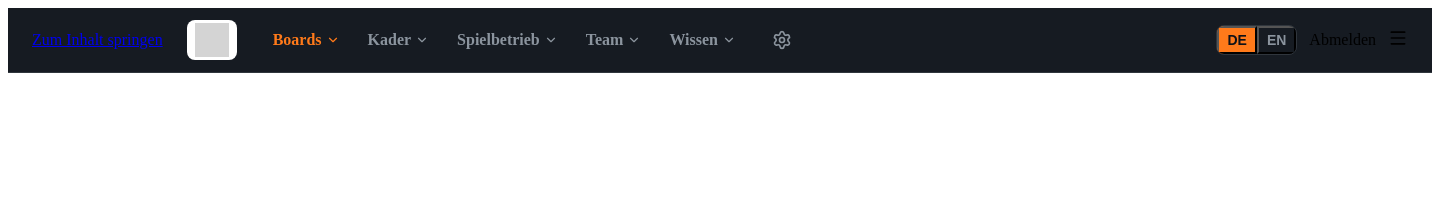
Header – gruppierte Navigation › öffnet nie zwei Gruppen gleichzeitig – eine neue Gruppe schließt die vorherige
This screenshot has width=1440, height=200.
Click the button "Kader" at point(398, 40), box left=356, top=23, right=441, bottom=57
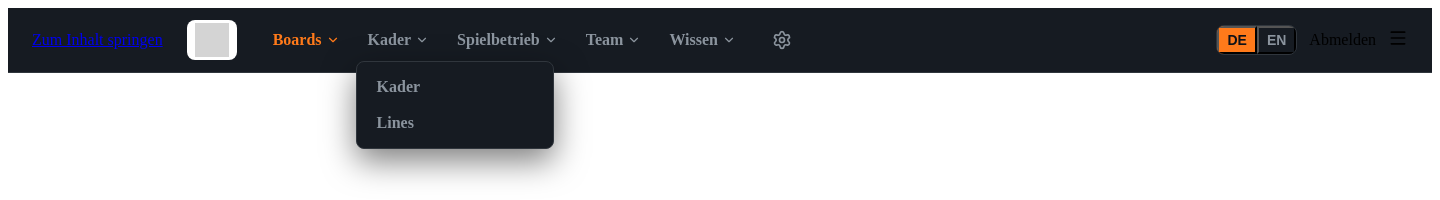
Result: the link "Lines" is shown at left=376, top=114, right=414, bottom=131
Click the button "Team" at point(614, 40), box left=574, top=23, right=653, bottom=57
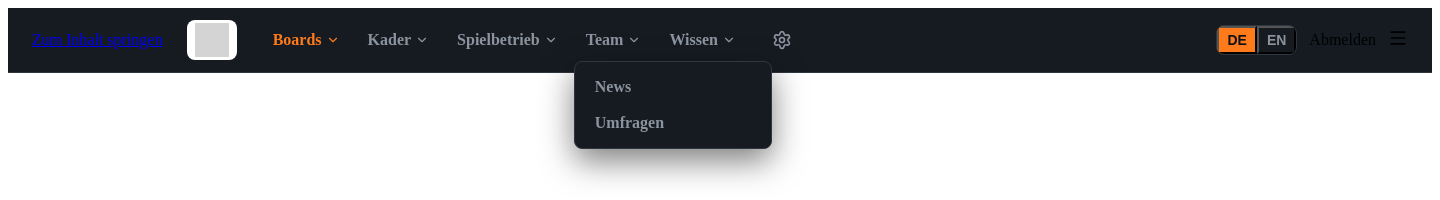
Result: the link "Lines" is gone
Result: the link "Umfragen" is shown at left=595, top=114, right=664, bottom=131
